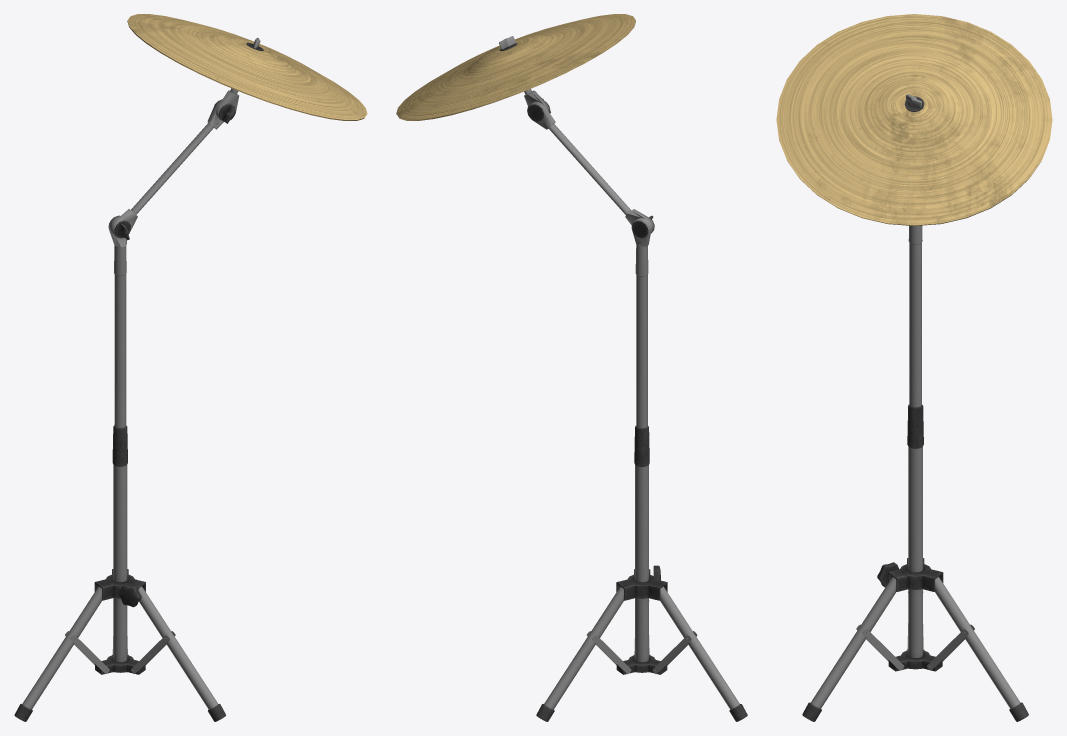
The model's file is SM_Drum_Cymbals_01.fbx.
The picture shows the model from 3 angles, left to right: view 1: azimuth 30°, elevation 25°; view 2: azimuth 150°, elevation 25°; view 3: azimuth 270°, elevation 25°; orthographic projection. The views are drawn at different scales.
Parts seen in each view (by area): view 1: SM_Drum_Cymbals_01_LOD0; view 2: SM_Drum_Cymbals_01_LOD0; view 3: SM_Drum_Cymbals_01_LOD0.
Part boxes in pixels (box(x1,y1,x2,y2)): SM_Drum_Cymbals_01_LOD0: box(14, 14, 367, 721); SM_Drum_Cymbals_01_LOD0: box(396, 14, 747, 721); SM_Drum_Cymbals_01_LOD0: box(776, 14, 1052, 721).
Bounding box in the file's own units: 60.53 × 40.64 × 113.
1 material, 1 textured.
